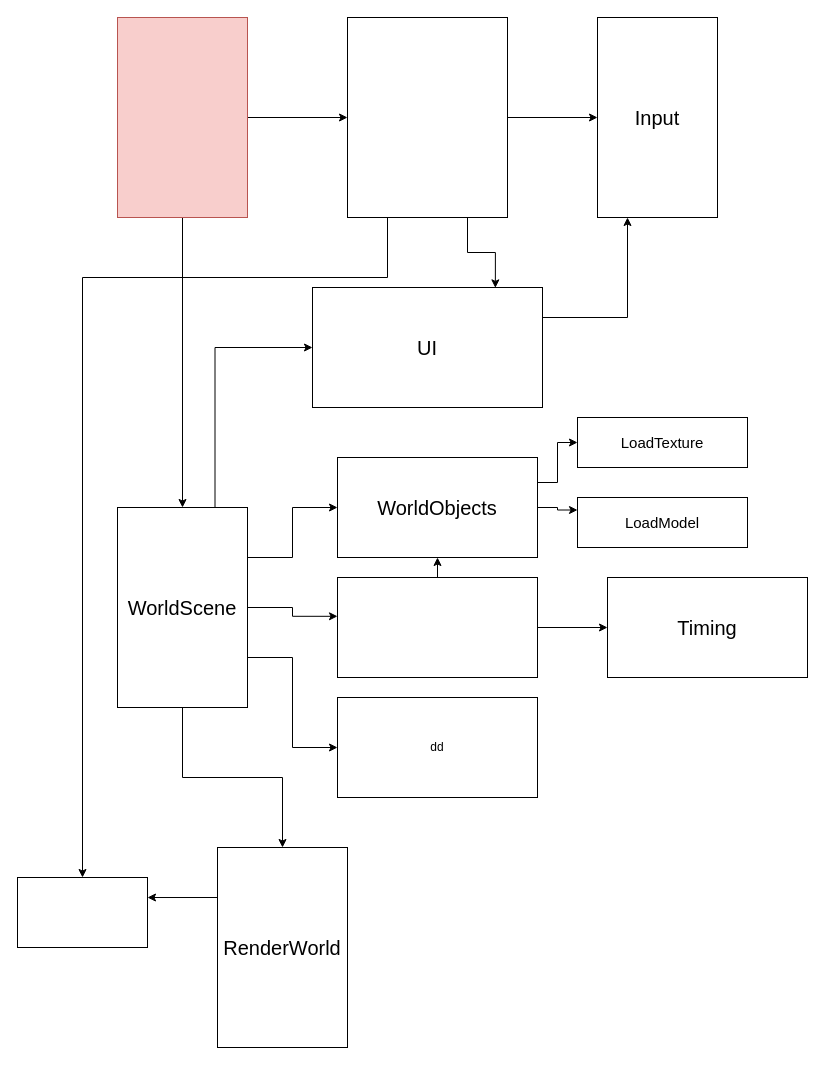
Image size: 825x1065. Some labels were removed from this diagram. Each missing label, with the centre of its shape:
"Camera" goes at (82,912).
"main" goes at (182,117).
"PhysicsUpdate" goes at (437,627).
"Windowing" goes at (427,117).
